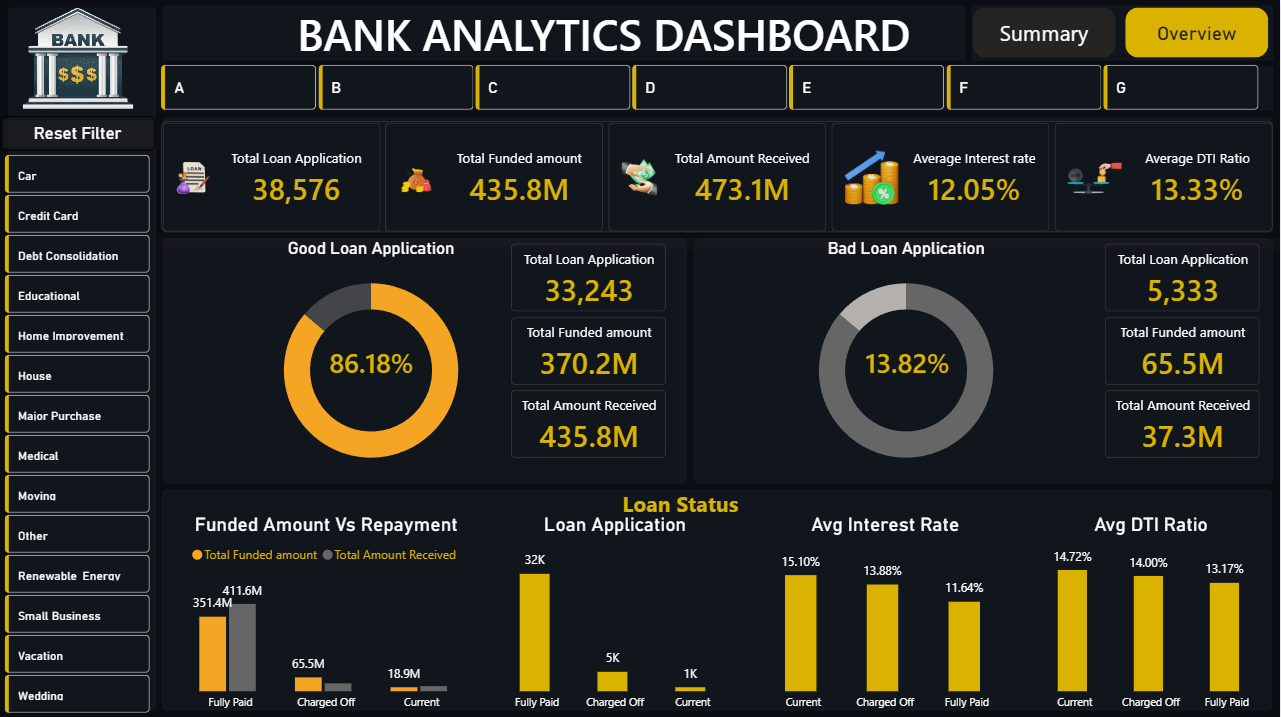

What the dashboard file says about the page in this screenshot:
{"tool":"powerbi","page":{"name":"Summary","canvas":[1280,720],"ordinal":0},"visuals":[{"type":"cardVisual","fields":{"Data":["financial_loan.Total Loan Application","financial_loan.Total Funded amount","financial_loan.Total Amount Received","financial_loan.Average Interest rate","financial_loan.Average DTI Rate"]},"box":[155.7,115.7,1124.3,121.4],"z":0},{"type":"donutChart","title":"Good Loan Application","fields":{"Category":["financial_loan.Good_VS_Bad_Loan"],"Y":["CountNonNull(financial_loan.LOAN_STATUS)"]},"box":[155.7,237.1,430,247.1],"z":1000},{"type":"donutChart","title":"Bad Loan Application","fields":{"Category":["financial_loan.Good_VS_Bad_Loan"],"Y":["CountNonNull(financial_loan.LOAN_STATUS)"]},"box":[691.4,237.1,430,247.1],"z":2000},{"type":"cardVisual","fields":{"Data":["financial_loan.Good Loan %"]},"box":[295.7,324.3,150,74.3],"z":3000},{"type":"cardVisual","fields":{"Data":["financial_loan.Bad Loan %"]},"box":[832.9,324.3,150,74.3],"z":4000},{"type":"cardVisual","fields":{"Data":["financial_loan.Total Loan Application","financial_loan.Total Funded amount","financial_loan.Total Amount Received"],"Rows":["financial_loan.Good_VS_Bad_Loan"]},"box":[484.3,218.6,187.1,265.7],"z":5000},{"type":"cardVisual","fields":{"Data":["financial_loan.Total Loan Application","financial_loan.Total Funded amount","financial_loan.Total Amount Received"],"Rows":["financial_loan.Good_VS_Bad_Loan"]},"box":[1077.1,218.6,187.1,265.7],"z":6000},{"type":"clusteredColumnChart","title":"Funded Amount Vs Repayment","fields":{"Category":["financial_loan.LOAN_STATUS"],"Y":["financial_loan.Total Funded amount","financial_loan.Total Amount Received"]},"box":[155.7,514.3,340,205.7],"z":7000},{"type":"clusteredColumnChart","title":"Loan Application","fields":{"Category":["financial_loan.LOAN_STATUS"],"Y":["financial_loan.Total Loan Application"]},"box":[484.3,514.3,262.9,205.7],"z":8000},{"type":"textbox","box":[617.1,484.3,161.4,41.4],"z":9000},{"type":"clusteredColumnChart","title":"Avg Interest Rate","fields":{"Category":["financial_loan.LOAN_STATUS"],"Y":["financial_loan.Average Interest rate"]},"box":[747.1,514.3,275.7,205.7],"z":10000},{"type":"clusteredColumnChart","title":"Avg DTI Ratio","fields":{"Category":["financial_loan.LOAN_STATUS"],"Y":["financial_loan.Average DTI Ratio"]},"box":[1022.9,514.3,257.1,205.7],"z":11000},{"type":"image","box":[0,0,155.7,115.7],"z":12000},{"type":"advancedSlicerVisual","fields":{"Values":["financial_loan.PURPOSE"]},"box":[0,150,155.7,570],"z":13000},{"type":"advancedSlicerVisual","fields":{"Values":["financial_loan.GRADE"]},"box":[155.7,60,1108.6,55.7],"z":14000},{"type":"actionButton","box":[0,115.7,155.7,34.3],"z":15000},{"type":"textbox","box":[292.9,0,635.7,78.6],"z":16000},{"type":"pageNavigator","box":[972.4,7.2,297.2,50.5],"z":17000}]}

Visuals, with their boxes in screenshot pixels (x1, y1, x2, y2), scaled from the page's 1280x720 canvas onto the 1281x717 screenshot:
cardVisual - financial_loan.Total Loan Application x financial_loan.Total Funded amount: (156,115,1280,236)
"Good Loan Application" donutChart: (156,236,586,482)
"Bad Loan Application" donutChart: (692,236,1122,482)
cardVisual - financial_loan.Good Loan %: (296,323,446,397)
cardVisual - financial_loan.Bad Loan %: (834,323,984,397)
cardVisual - financial_loan.Total Loan Application x financial_loan.Total Funded amount: (485,218,672,482)
cardVisual - financial_loan.Total Loan Application x financial_loan.Total Funded amount: (1078,218,1265,482)
"Funded Amount Vs Repayment" clusteredColumnChart: (156,512,496,716)
"Loan Application" clusteredColumnChart: (485,512,748,716)
textbox: (618,482,779,524)
"Avg Interest Rate" clusteredColumnChart: (748,512,1024,716)
"Avg DTI Ratio" clusteredColumnChart: (1024,512,1280,716)
image: (0,0,156,115)
advancedSlicerVisual - financial_loan.PURPOSE: (0,149,156,716)
advancedSlicerVisual - financial_loan.GRADE: (156,60,1265,115)
actionButton: (0,115,156,149)
textbox: (293,0,929,78)
pageNavigator: (973,7,1271,57)
